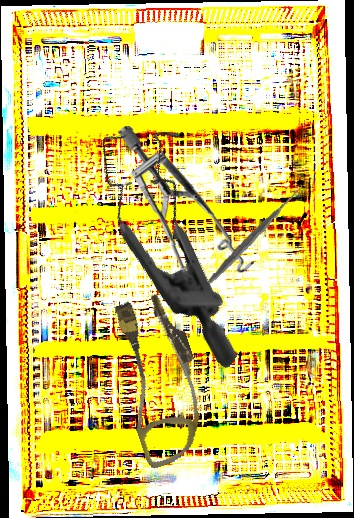Cannula: (96, 287, 224, 471)
Spatula Surgical: (180, 181, 310, 310)
Speculum: (36, 100, 322, 370), (114, 125, 257, 308)
